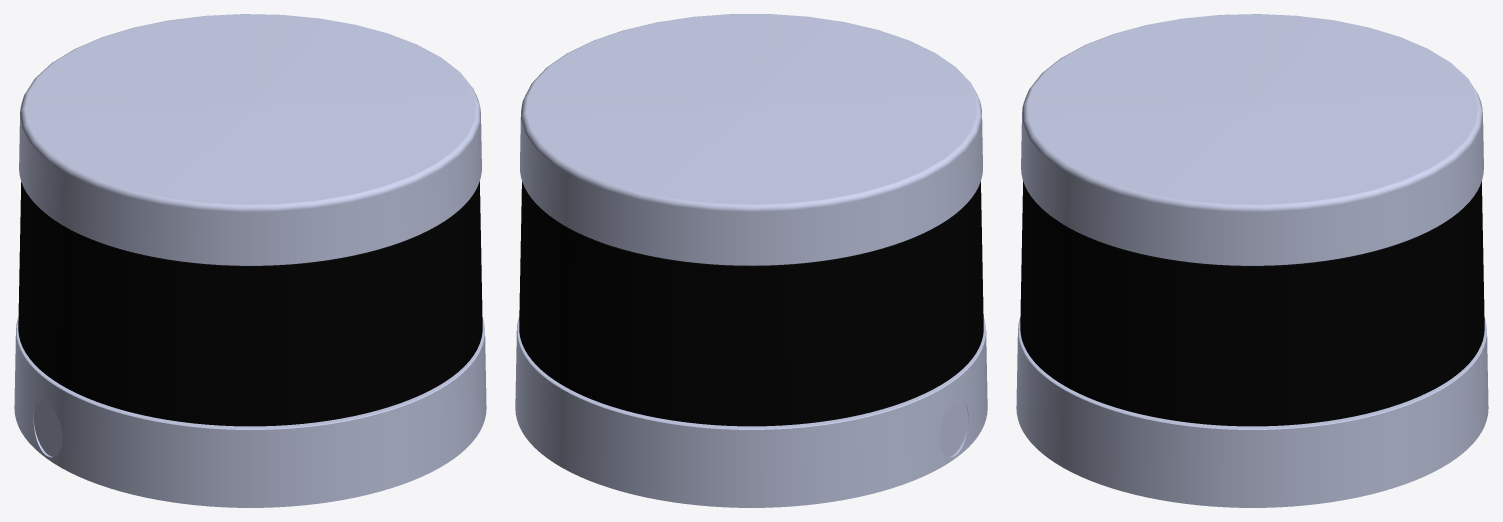
The model's file is VLP16.dae.
The picture shows the model from 3 angles, left to right: view 1: azimuth 30°, elevation 25°; view 2: azimuth 150°, elevation 25°; view 3: azimuth 270°, elevation 25°; orthographic projection.
Visible parts, largest first — view 1: ID2; view 2: ID2; view 3: ID2.
Part boxes in pixels (left/top/right/bottom): ID2: left=14, top=14, right=486, bottom=507; ID2: left=515, top=14, right=987, bottom=507; ID2: left=1016, top=14, right=1488, bottom=507.
Size of the model in its own units: 0.1033 by 0.1033 by 0.0727.
